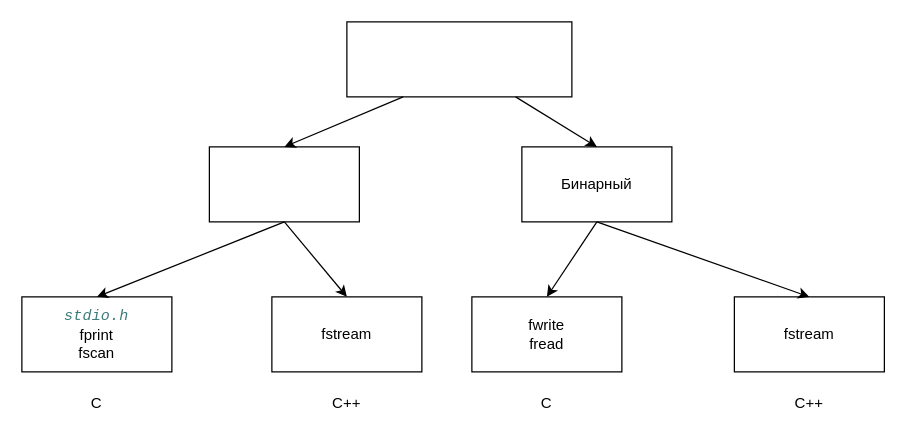
Image size: 906x444. Some labels were removed from this diagram. The shapes that lost their labels are listed below. From the top down, each one's box as (x1, y1, x2, y2) in pixels, then its label:
(346, 21, 572, 97): Работа с файлами С++
(208, 146, 359, 222): Тестовый
